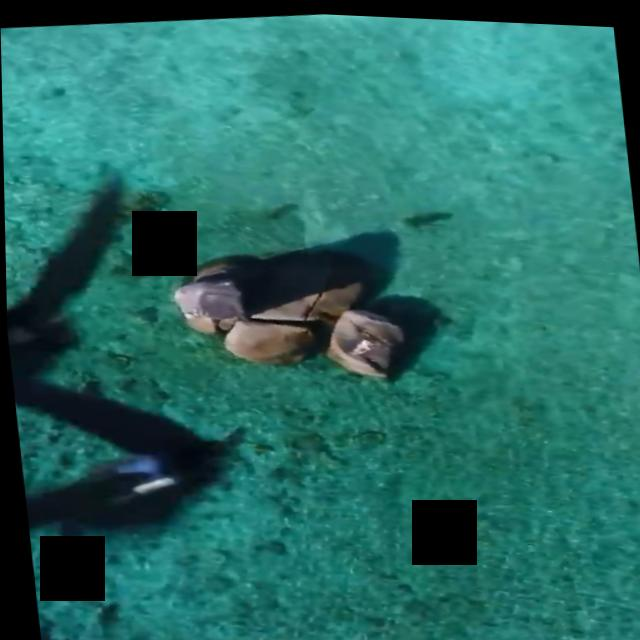Vehicle: (3, 161, 282, 640)
